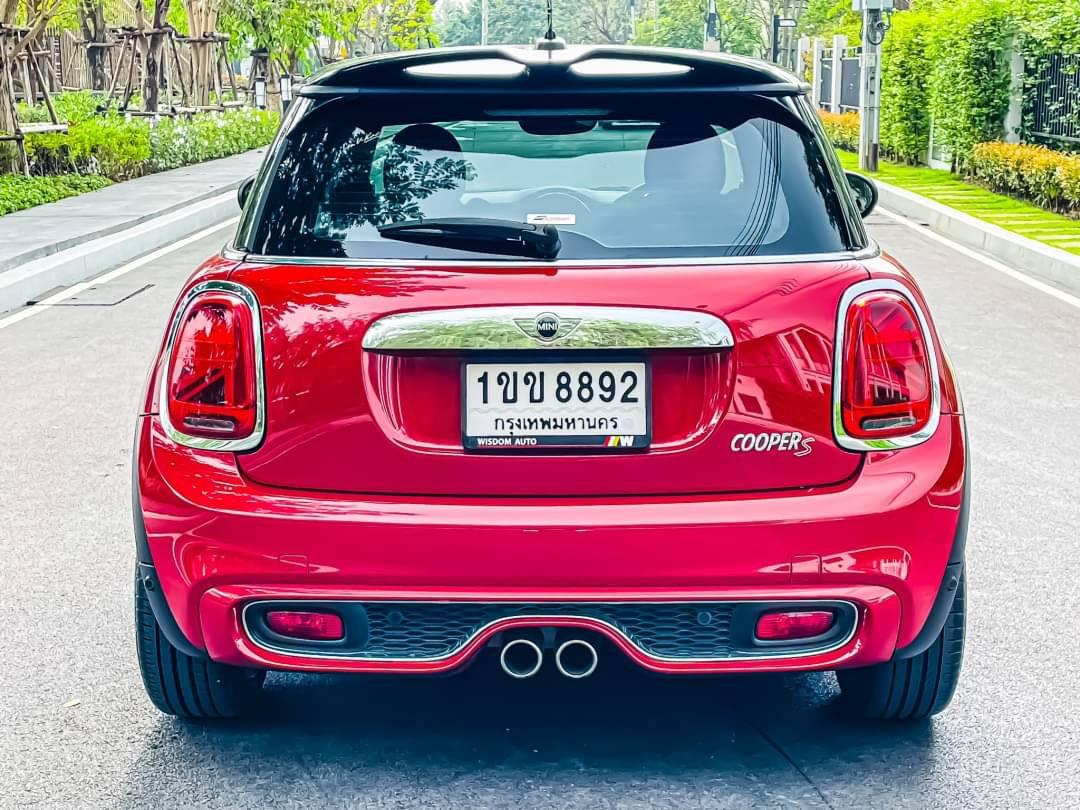license-plate: (460, 349, 654, 456)
